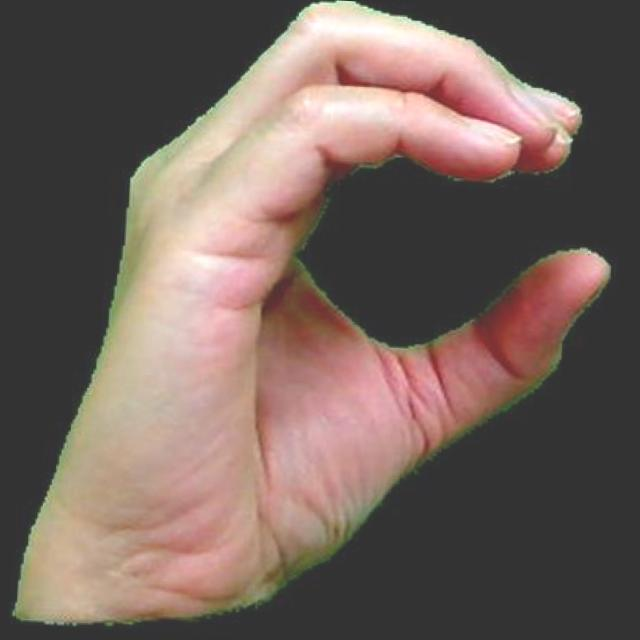c: (6, 0, 629, 640)
